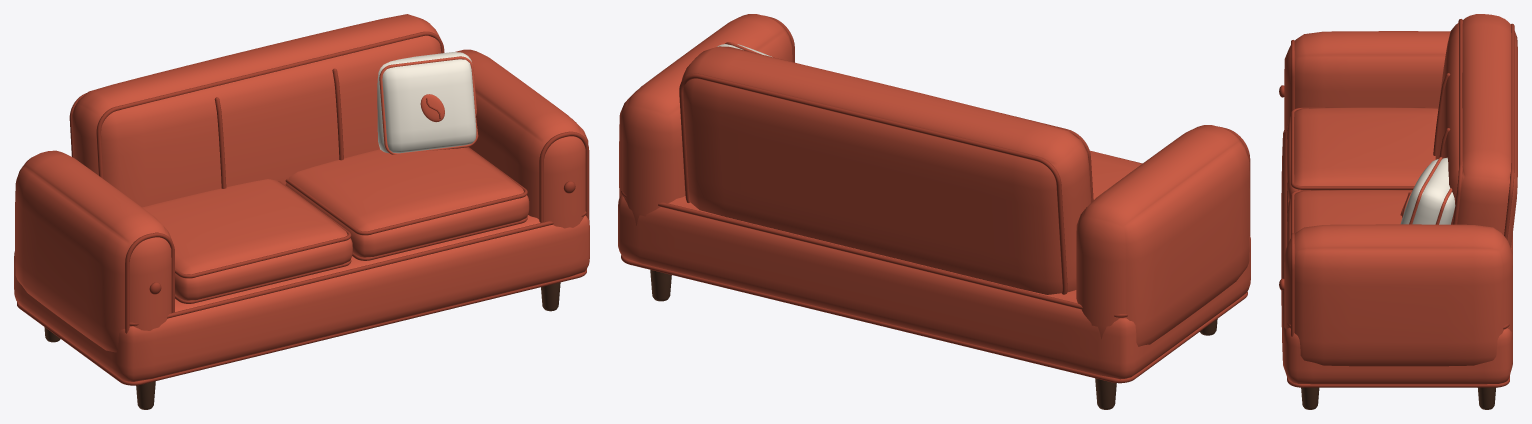
File: Sofa-Em-Nga-lite.glb
3 views of the same model, side by side, from view 1: azimuth 30°, elevation 25°; view 2: azimuth 150°, elevation 25°; view 3: azimuth 270°, elevation 25° (orthographic). The views are drawn at different scales.
Visible parts, largest first — view 1: Sofa_Lung, Sofa_De, Sofa_TayVin_R, Sofa_Dem_L, Sofa_Dem_R, Sofa_TayVin_L, Sofa_GoiOm, Sofa_De_VienMz, Sofa_De_VienPz, Sofa_Lung_VienMy, Sofa_Dem_L_VienPz, Sofa_TayVin_L_VienMy (+6 smaller); view 2: Sofa_Lung, Sofa_De, Sofa_TayVin_R, Sofa_TayVin_L, Sofa_Lung_VienPy, Sofa_De_VienMz, Sofa_De_VienPz, Sofa_Dem_R, Sofa_Chan_3, Sofa_Chan_2; view 3: Sofa_TayVin_L, Sofa_Lung, Sofa_TayVin_R, Sofa_Dem_R, Sofa_De, Sofa_Dem_L, Sofa_GoiOm, Sofa_De_VienMz, Sofa_Lung_VienPy, Sofa_Lung_VienMy, Sofa_Dem_R_VienPz, Sofa_TayVin_L_VienMy (+5 smaller).
Part boxes in pixels (x1,y1,x2,y2): Sofa_Lung: (72,14,441,207); Sofa_De: (14,215,589,381); Sofa_TayVin_R: (15,150,171,352); Sofa_Dem_L: (285,147,529,257); Sofa_Dem_R: (142,179,352,300); Sofa_TayVin_L: (455,49,588,228); Sofa_GoiOm: (377,52,476,153); Sofa_De_VienMz: (17,269,586,385); Sofa_De_VienPz: (129,211,586,325); Sofa_Lung_VienMy: (96,31,444,178); Sofa_Dem_L_VienPz: (285,147,527,235); Sofa_TayVin_L_VienMy: (539,131,589,222); Sofa_Lung: (681,46,1091,294); Sofa_De: (618,195,1250,379); Sofa_TayVin_R: (1076,125,1249,346); Sofa_TayVin_L: (619,14,792,225); Sofa_Lung_VienPy: (679,73,1067,294); Sofa_De_VienMz: (621,255,1247,383); Sofa_De_VienPz: (621,191,1127,317); Sofa_Dem_R: (1090,150,1141,199); Sofa_Chan_3: (650,270,671,301); Sofa_Chan_2: (1095,378,1116,409); Sofa_TayVin_L: (1284,224,1512,366); Sofa_Lung: (1435,14,1517,247); Sofa_TayVin_R: (1284,31,1450,132); Sofa_Dem_R: (1287,107,1438,201); Sofa_De: (1281,130,1512,384); Sofa_Dem_L: (1287,190,1412,245); Sofa_GoiOm: (1400,157,1455,224); Sofa_De_VienMz: (1287,376,1509,387); Sofa_Lung_VienPy: (1504,23,1514,239); Sofa_Lung_VienMy: (1453,19,1462,224); Sofa_Dem_R_VienPz: (1291,107,1438,189); Sofa_TayVin_L_VienMy: (1291,233,1294,336).
Size of the model in its own units: 2.04 by 0.9647 by 0.919.
